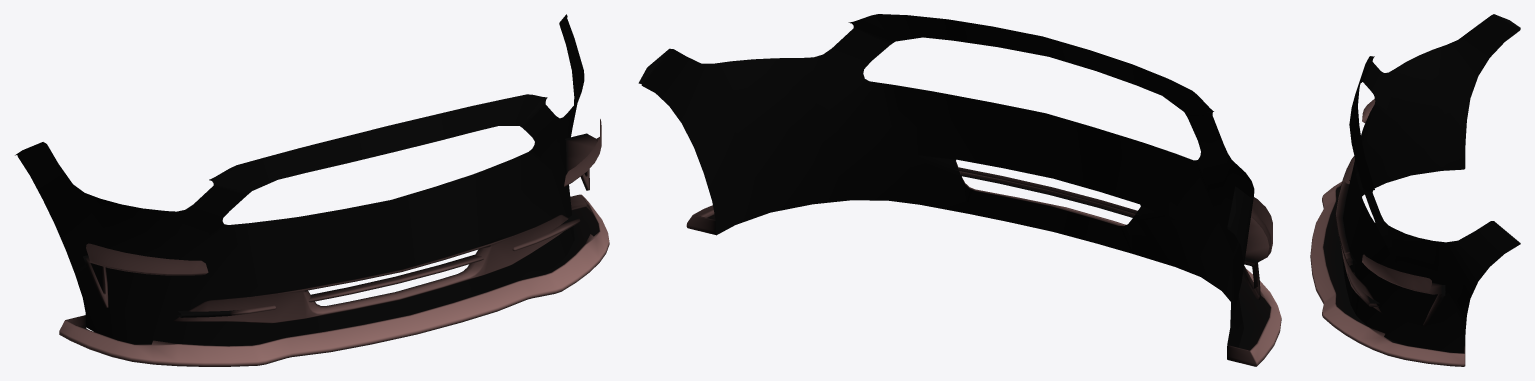
Rendered from Mustang16_FB_04_Trim.fbx.
3 renders of one model, left to right at view 1: azimuth 30°, elevation 25°; view 2: azimuth 150°, elevation 25°; view 3: azimuth 270°, elevation 25°, orthographic. The views are drawn at different scales.
Parts seen in each view (by area): view 1: Mustang16_FB_04_Trim; view 2: Mustang16_FB_04_Trim; view 3: Mustang16_FB_04_Trim.
Part boxes in pixels (bbox=[...]): Mustang16_FB_04_Trim: bbox=[15, 14, 609, 366]; Mustang16_FB_04_Trim: bbox=[638, 14, 1281, 366]; Mustang16_FB_04_Trim: bbox=[1310, 14, 1520, 366].
Size of the model in its own units: 183 by 61.81 by 75.12.
